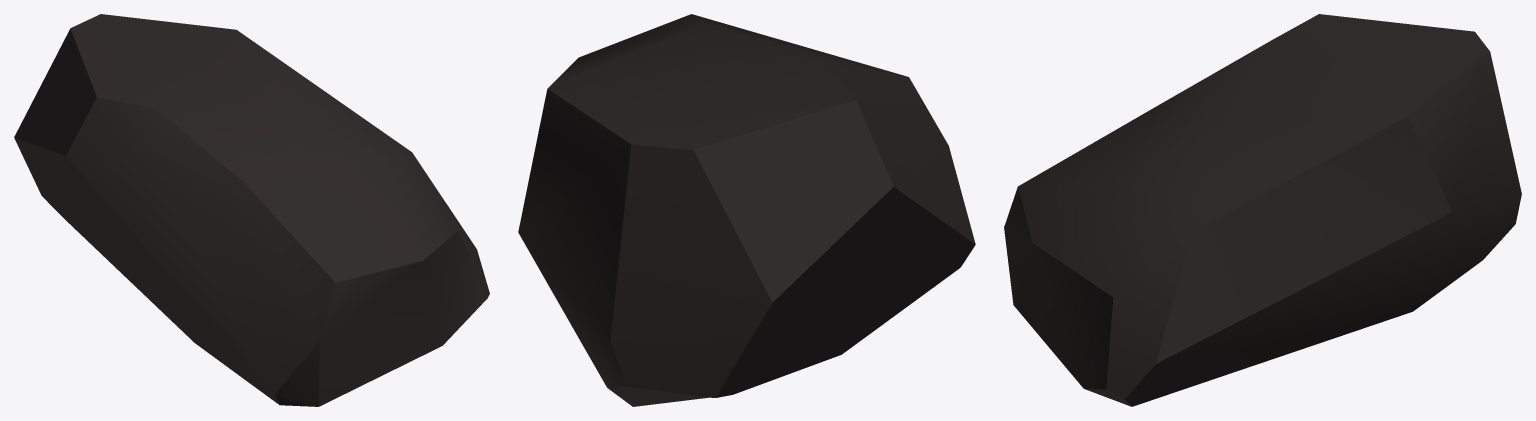
File: woodland_rock_3.glb
The picture shows the model from 3 angles, left to right: view 1: azimuth 30°, elevation 25°; view 2: azimuth 150°, elevation 25°; view 3: azimuth 270°, elevation 25°; orthographic projection. The views are drawn at different scales.
Visible parts, largest first — view 1: Rock 3; view 2: Rock 3; view 3: Rock 3.
Boxes of the visible parts, x1,y1,x2,y2 form: Rock 3: (14,14,489,406); Rock 3: (518,14,975,406); Rock 3: (1004,14,1521,406).
Size of the model in its own units: 2.69 by 1.79 by 3.31.
Materials: 1 (1 with a texture image).
